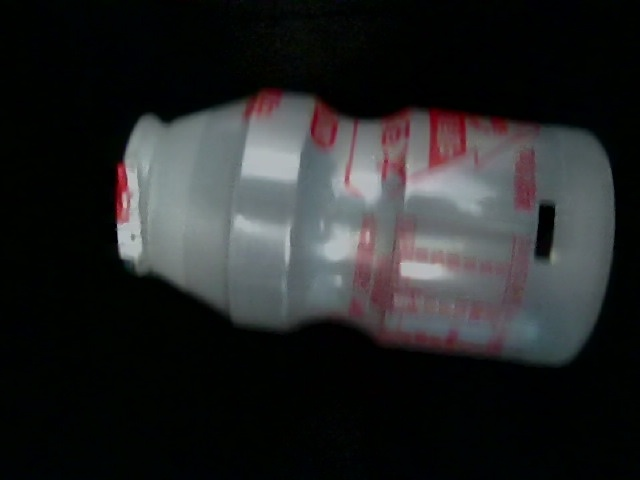CYLJ: (1, 33, 224, 421)
